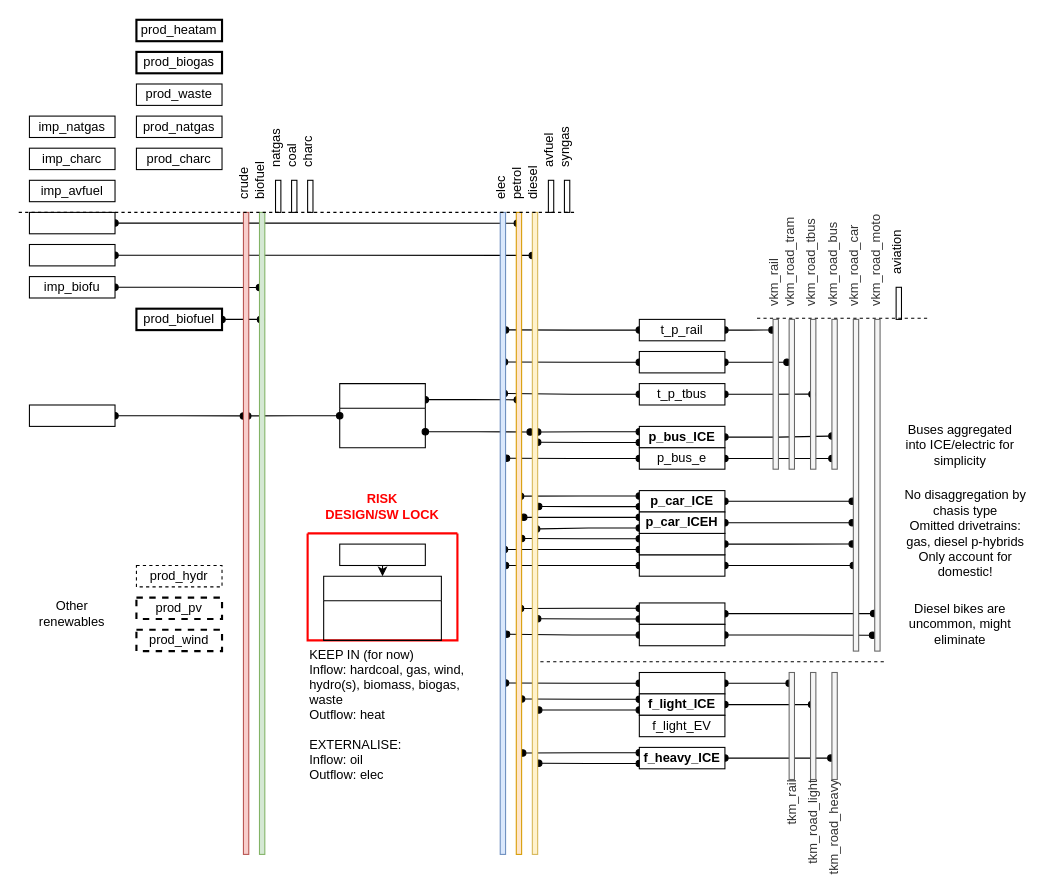
Some shapes in this 1049 by 895 pixel diagram are drawn without their labels. Here are the shapes that lost their labels. From the top down, the box of each, then its label:
(28, 211, 115, 234): imp_petrol
(28, 243, 115, 266): imp_diesel
(638, 350, 725, 373): t_p_tram
(28, 404, 115, 426): imp_crude
(339, 383, 425, 448): Refinery
(339, 543, 425, 565): imp_elec
(638, 532, 725, 555): p_car_PHEV
(638, 554, 725, 576): p_car_ev
(323, 575, 441, 640): D-EXPANSE
(638, 602, 725, 624): p_moto_ICE
(638, 623, 725, 646): p_moto_ev
(638, 671, 725, 694): f_rail
